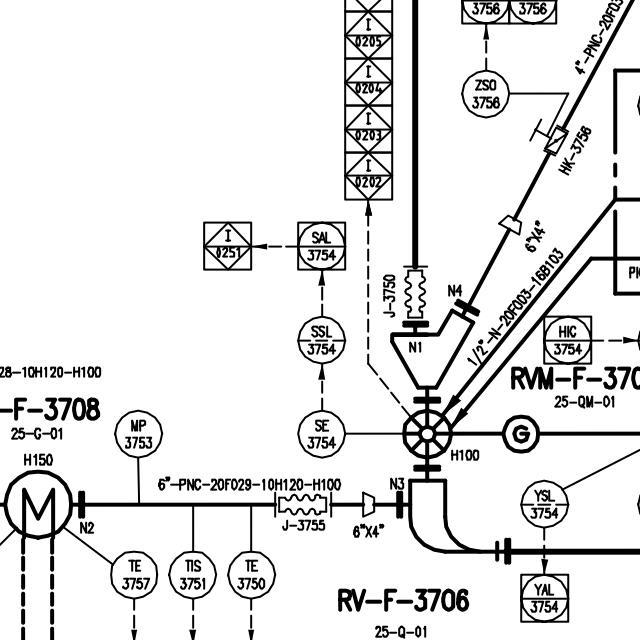BV: (527, 115, 569, 158)
EJ: (271, 489, 334, 521), (400, 262, 430, 324)
HE: (4, 469, 73, 538)
RV2: (385, 306, 489, 566)
SP: (495, 212, 524, 238), (359, 489, 377, 519)
